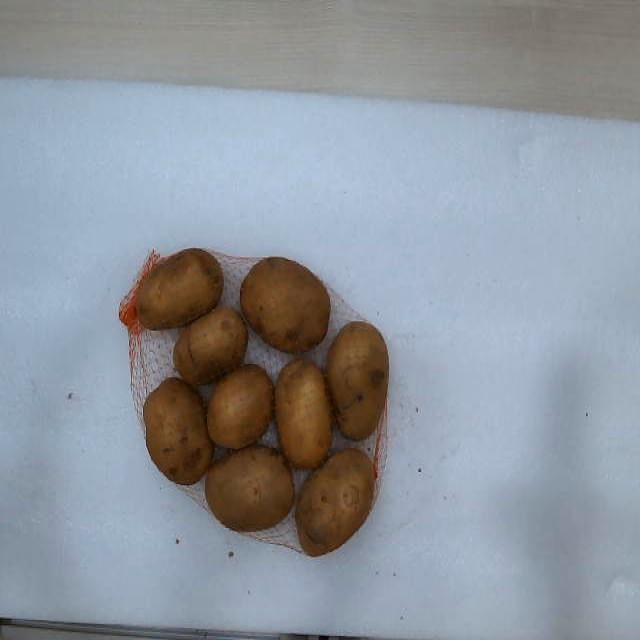potato: (296, 448, 375, 556), (241, 257, 330, 352), (144, 378, 214, 484), (206, 448, 294, 531), (136, 248, 224, 330), (328, 322, 389, 438), (275, 362, 332, 468), (175, 307, 249, 384), (208, 365, 272, 449)
